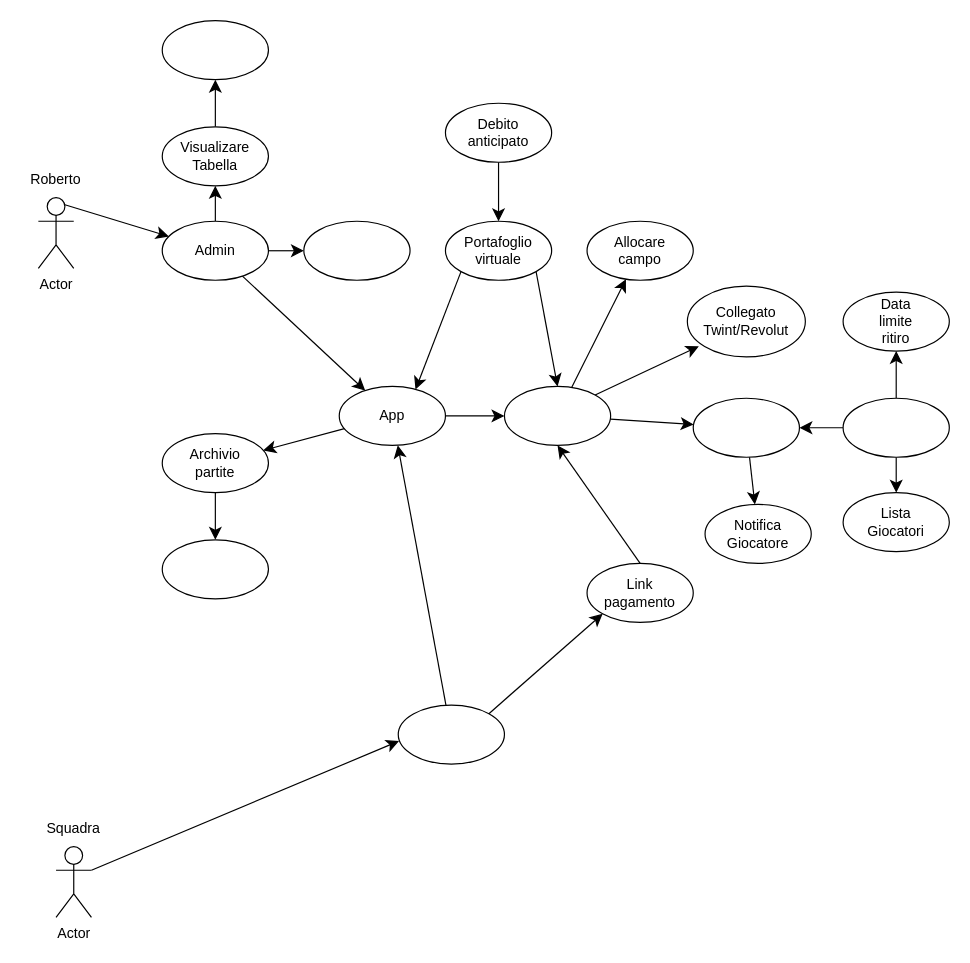
Some shapes in this 970 by 963 pixel diagram are drawn without their labels. The box of each missing label's shape, as (x1, y1, x2, y2) in pixels:
Bottone: (397, 704, 504, 764)
Gestione convocazioni: (842, 397, 949, 457)
Gestione pagamento: (503, 385, 611, 445)
imposta debito: (692, 397, 799, 457)
Informazioni: (161, 539, 268, 599)
inserire multe/extra: (303, 220, 410, 280)
Inserire spesa: (161, 19, 268, 80)
